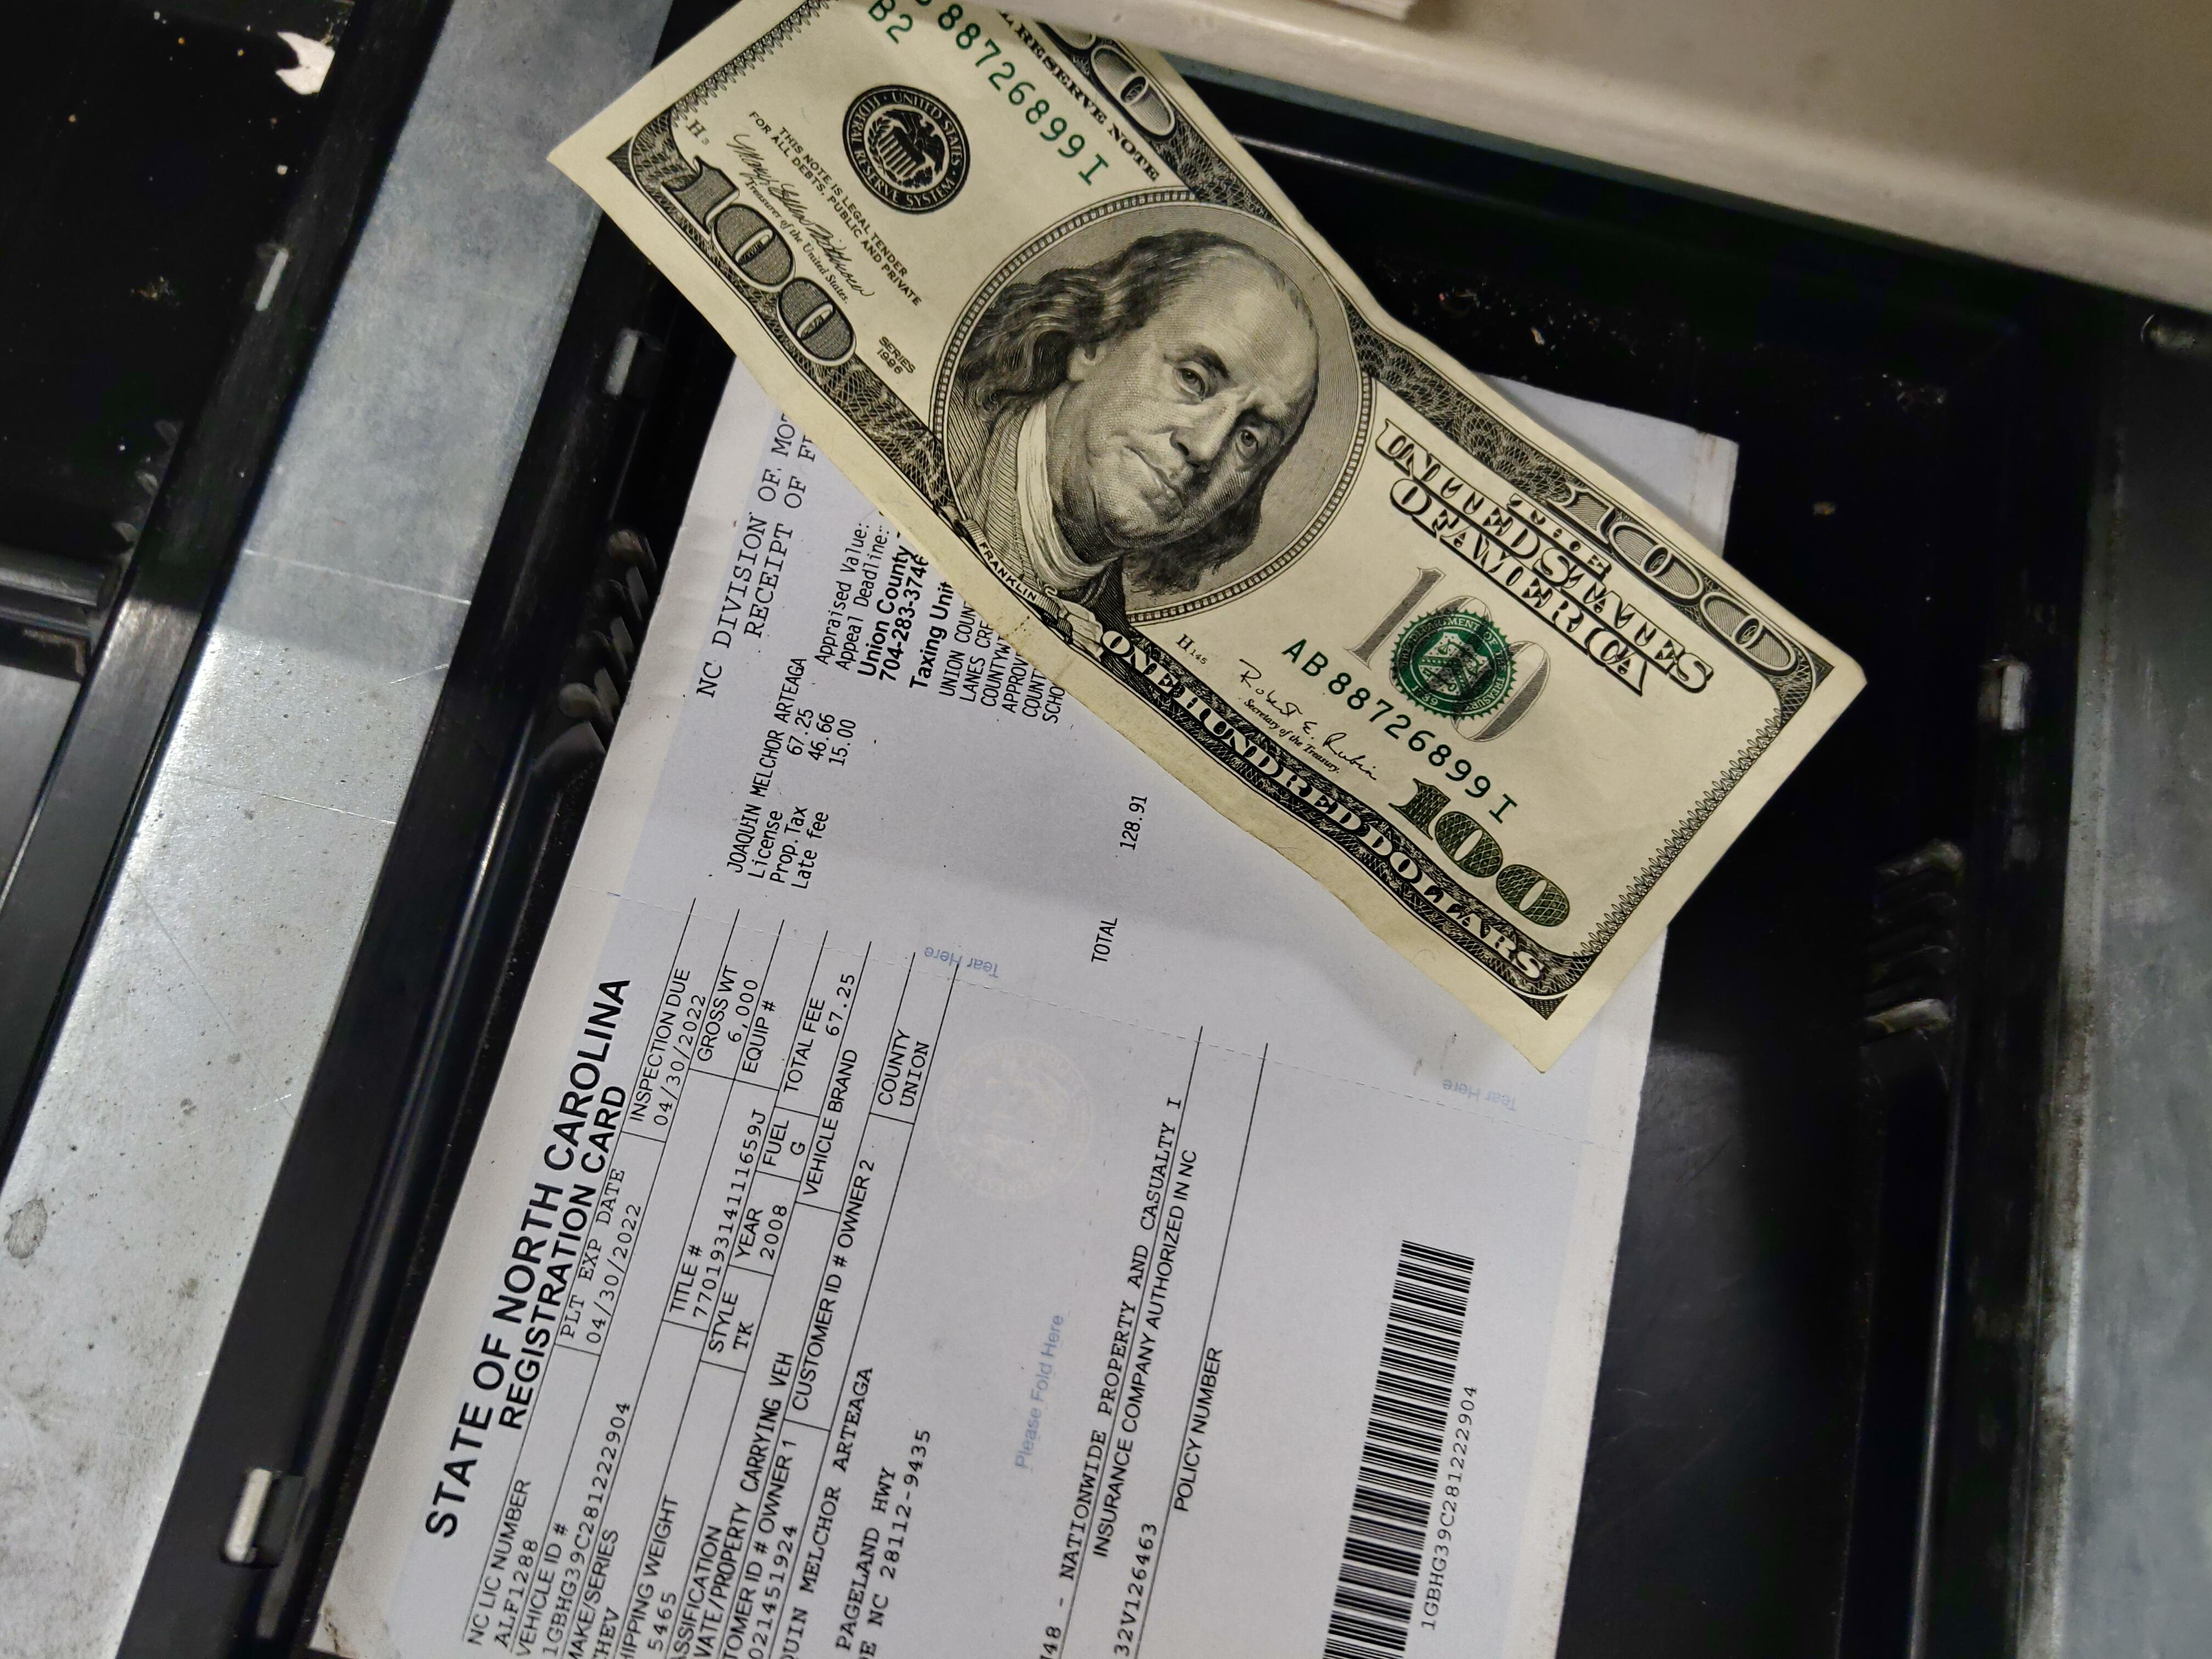HundredBill: (545, 2, 1869, 1073)
